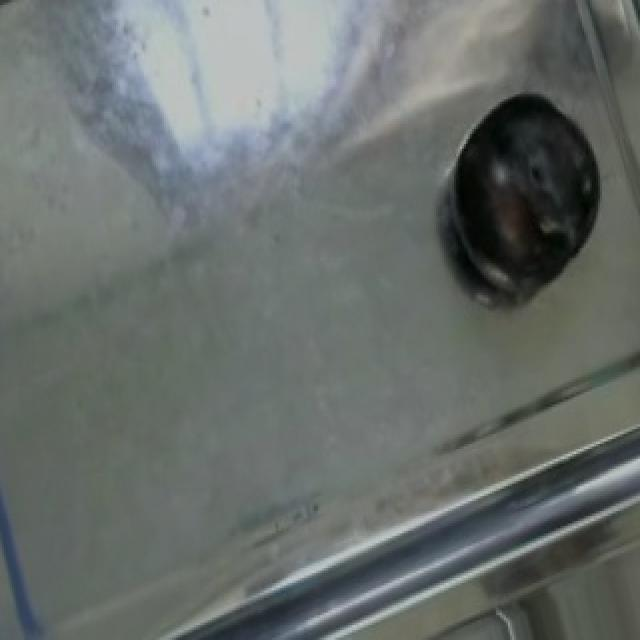Fruit: (438, 75, 614, 300)
